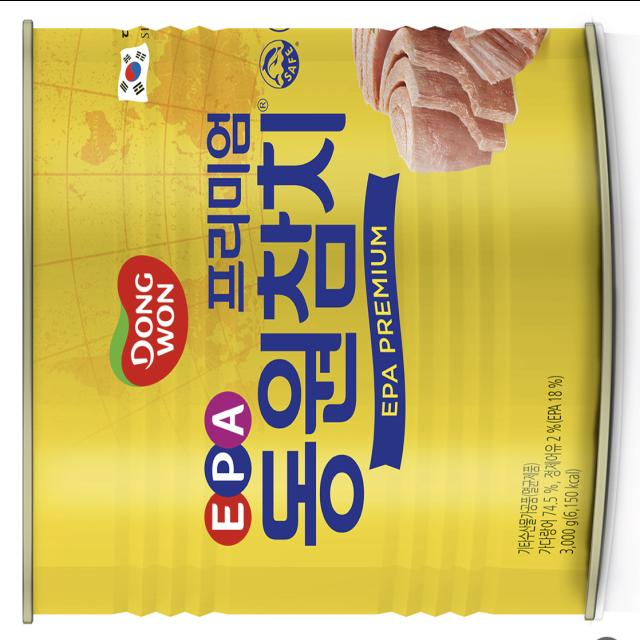can: (11, 8, 626, 632)
